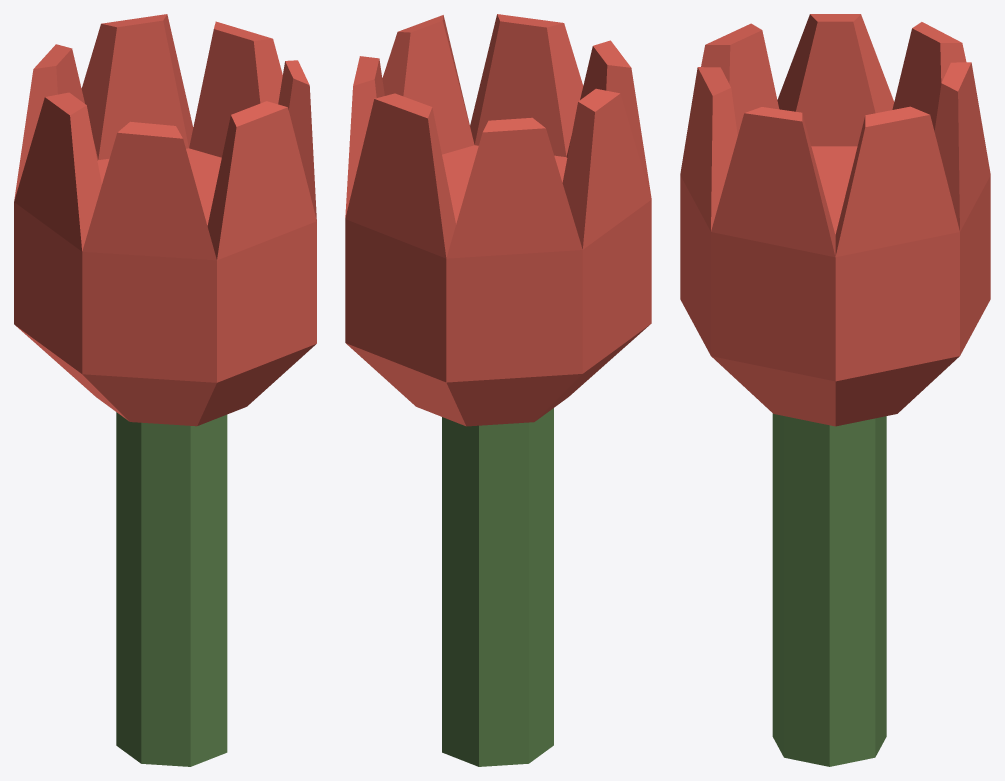
The model's file is rodetulp.fbx.
3 renders of one model, left to right at view 1: azimuth 30°, elevation 25°; view 2: azimuth 150°, elevation 25°; view 3: azimuth 270°, elevation 25°, orthographic.
Visible parts, largest first — view 1: rodetulp; view 2: rodetulp; view 3: rodetulp.
Part boxes in pixels (x1=…): rodetulp: x1=14, y1=14, x2=316, y2=766; rodetulp: x1=345, y1=14, x2=651, y2=766; rodetulp: x1=680, y1=14, x2=990, y2=766.
Size of the model in its own units: 0.3301 by 0.8195 by 0.3386.
